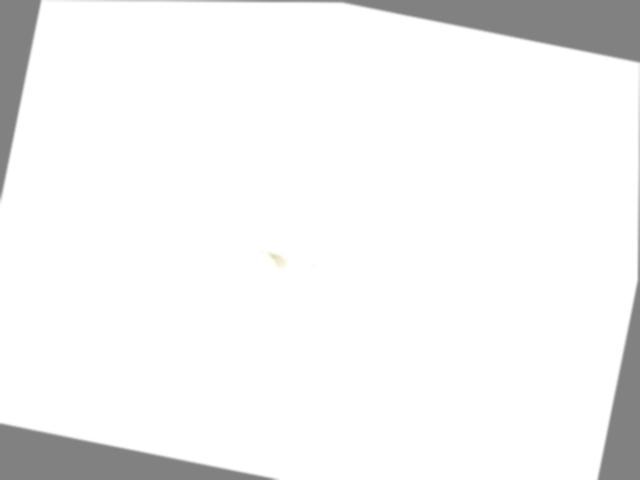uav: (234, 217, 332, 281)
